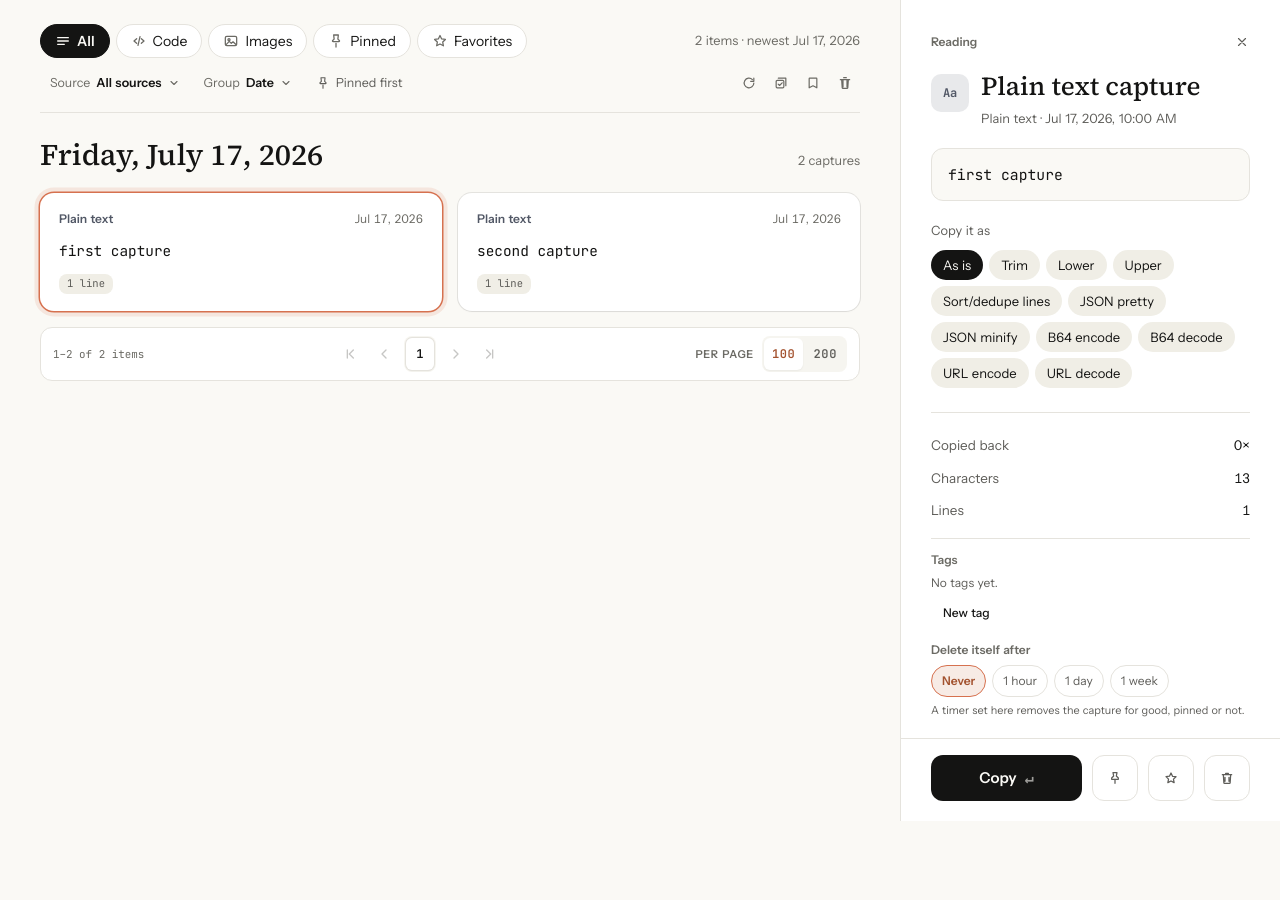
Test: ClipboardPage › accumulates rows across ctrl-clicks instead of collapsing to one
Press the mouse on the option "Plain text Jul 17, 2026 first capture 1 line" at (86, 218), box [40,193,442,311]
Click the option "Plain text Jul 17, 2026 first capture 1 line".
click(86, 218)  # box [40,193,442,311]
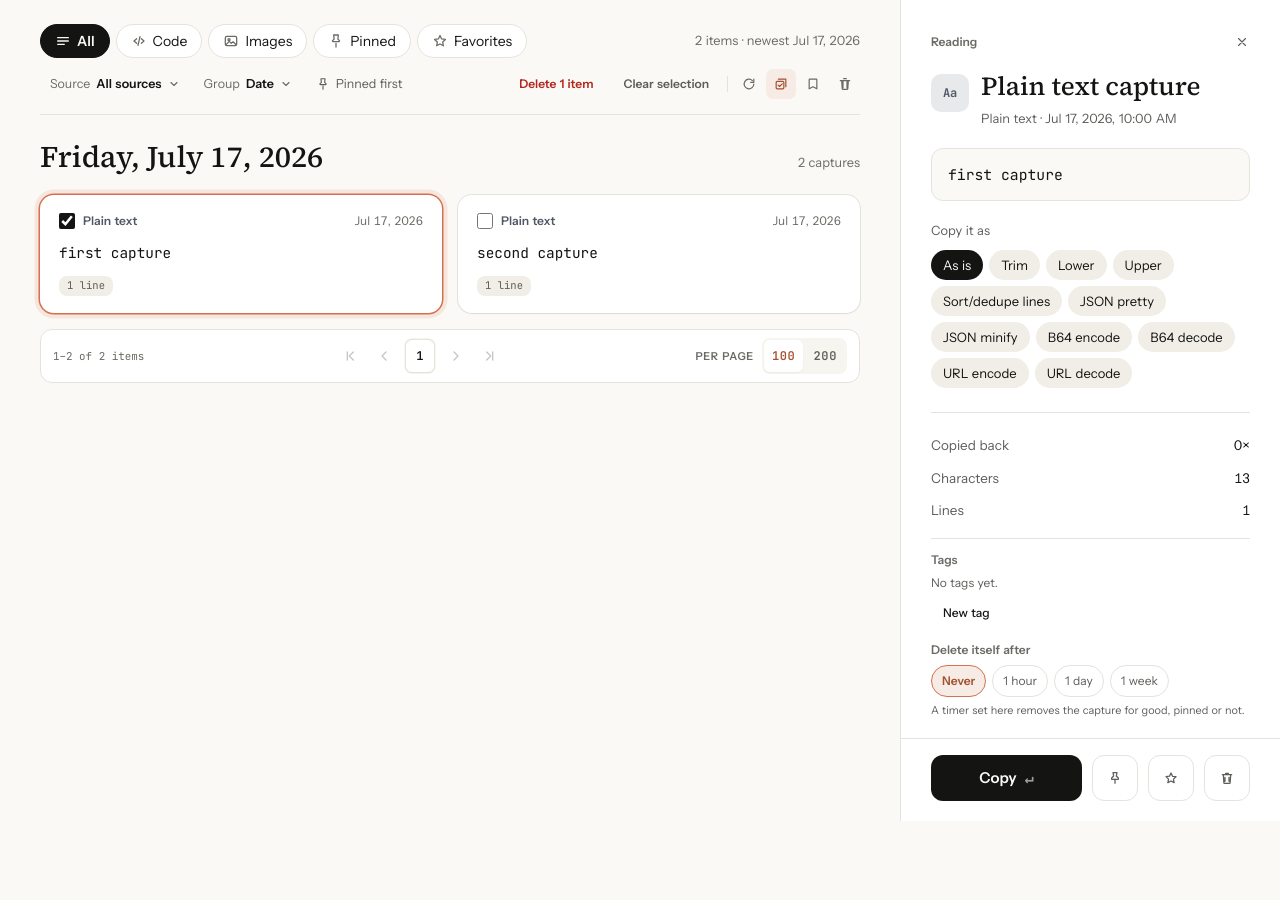
Press the mouse on the option "Plain text Jul 17, 2026 second capture 1 line" at (528, 220), box [458,195,860,313]
Click the option "Plain text Jul 17, 2026 second capture 1 line".
click(528, 220)  # box [458,195,860,313]
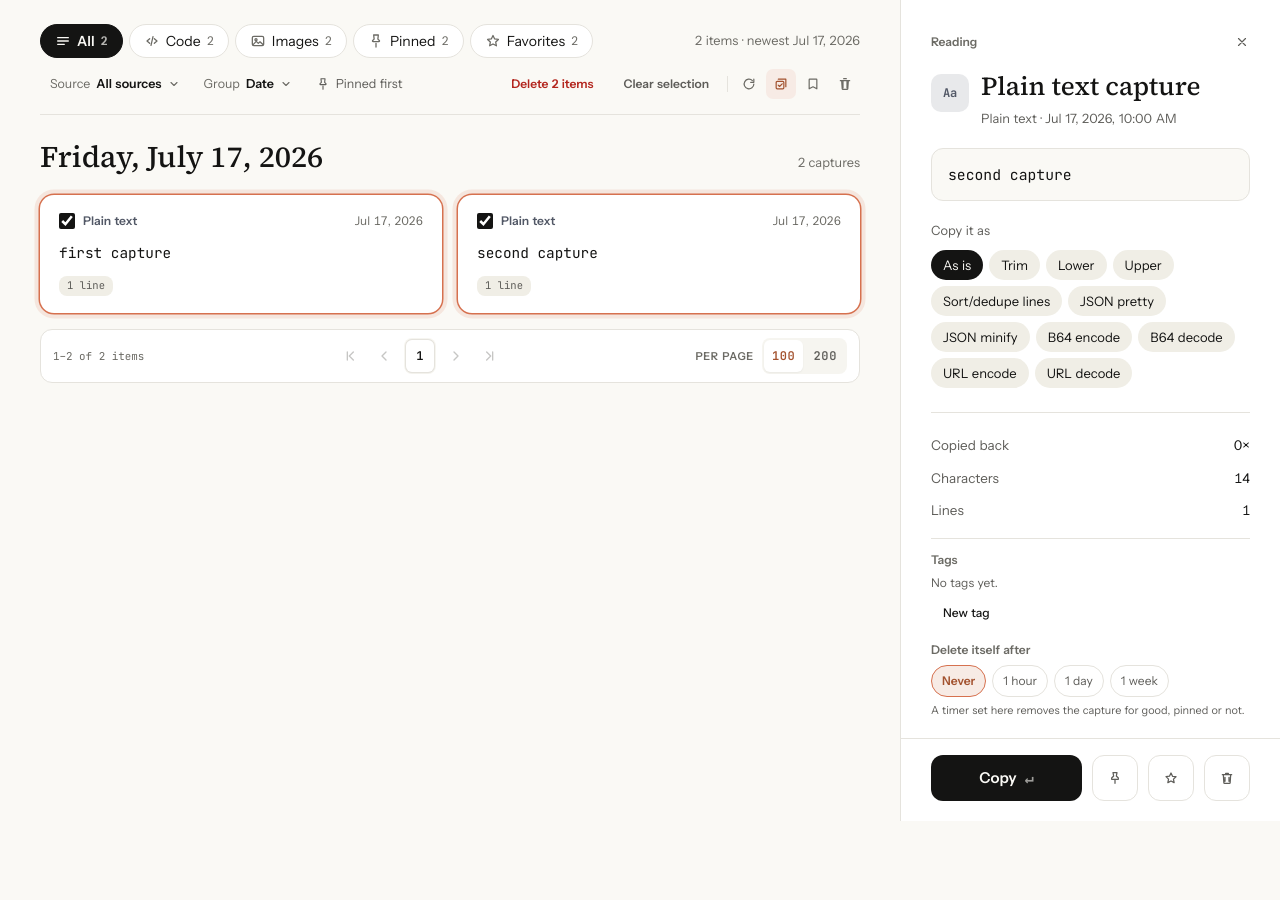
Now the button "Delete 2 items" is shown, box [499,68,606,100]
